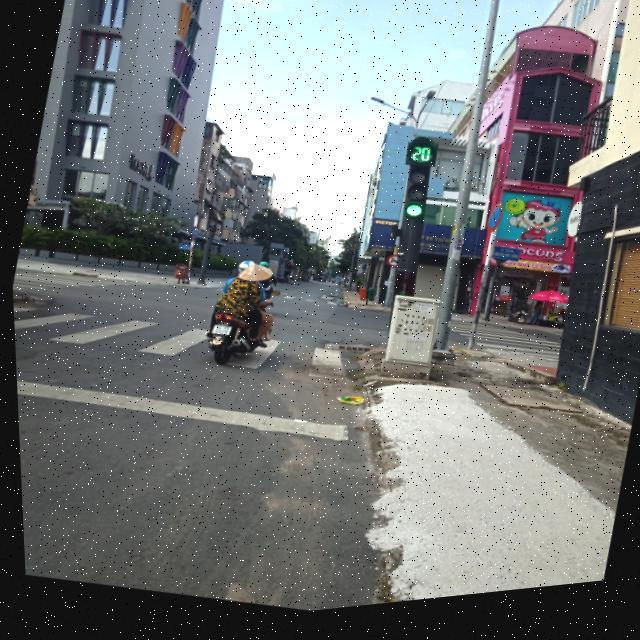Green: (390, 166, 441, 238)
